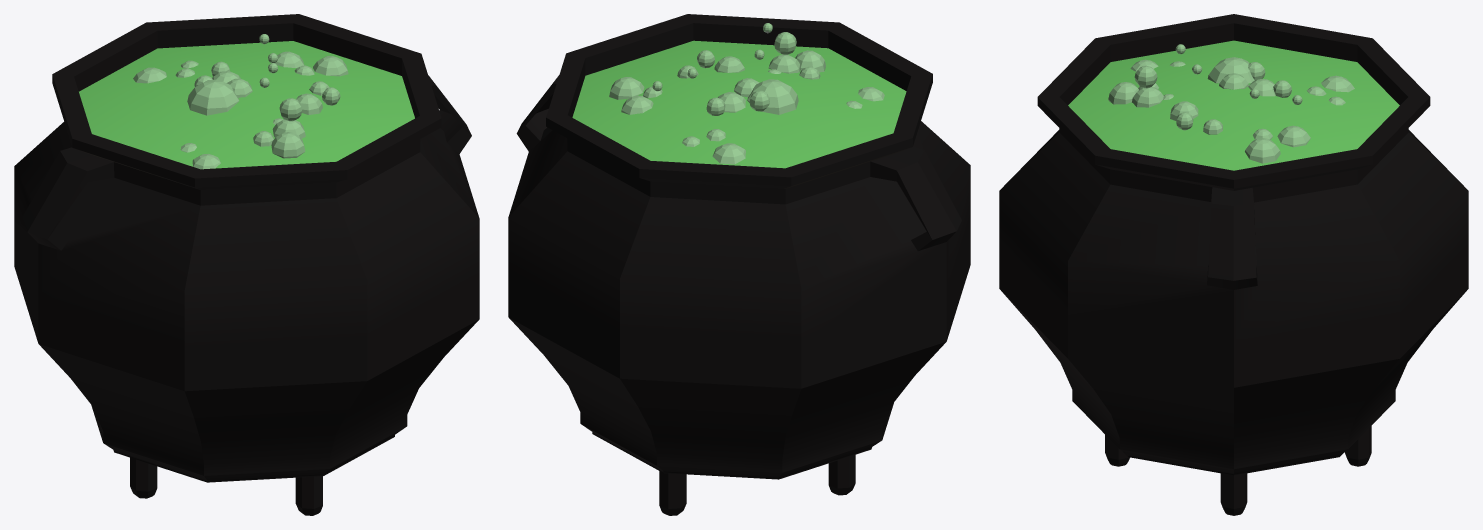
The model's file is witch_brew.fbx.
3 views of the same model, side by side, from view 1: azimuth 30°, elevation 25°; view 2: azimuth 150°, elevation 25°; view 3: azimuth 270°, elevation 25° (orthographic). The views are drawn at different scales.
Parts seen in each view (by area): view 1: witch_brew; view 2: witch_brew; view 3: witch_brew.
Part boxes in pixels (<box>): witch_brew: <box>14,14,479,515</box>; witch_brew: <box>508,14,970,515</box>; witch_brew: <box>999,14,1468,515</box>.
Bounding box in the file's own units: 3.3 × 3.07 × 3.14.
Materials: 1 (1 with a texture image).
